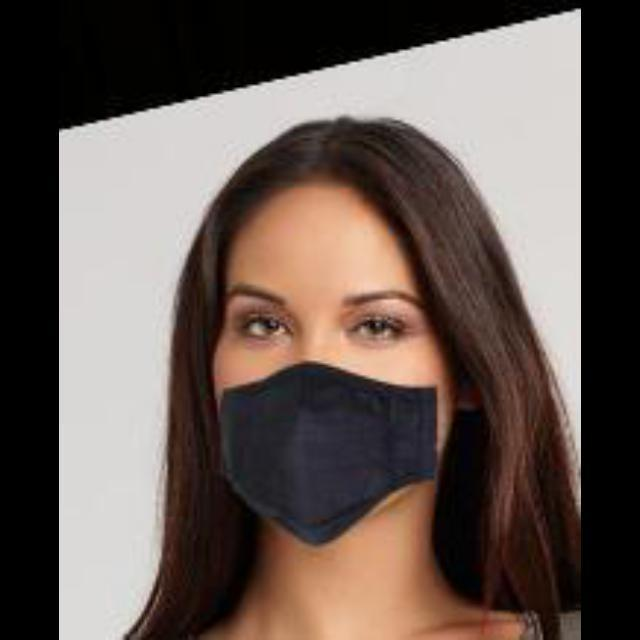suspicion: (163, 140, 521, 578)
